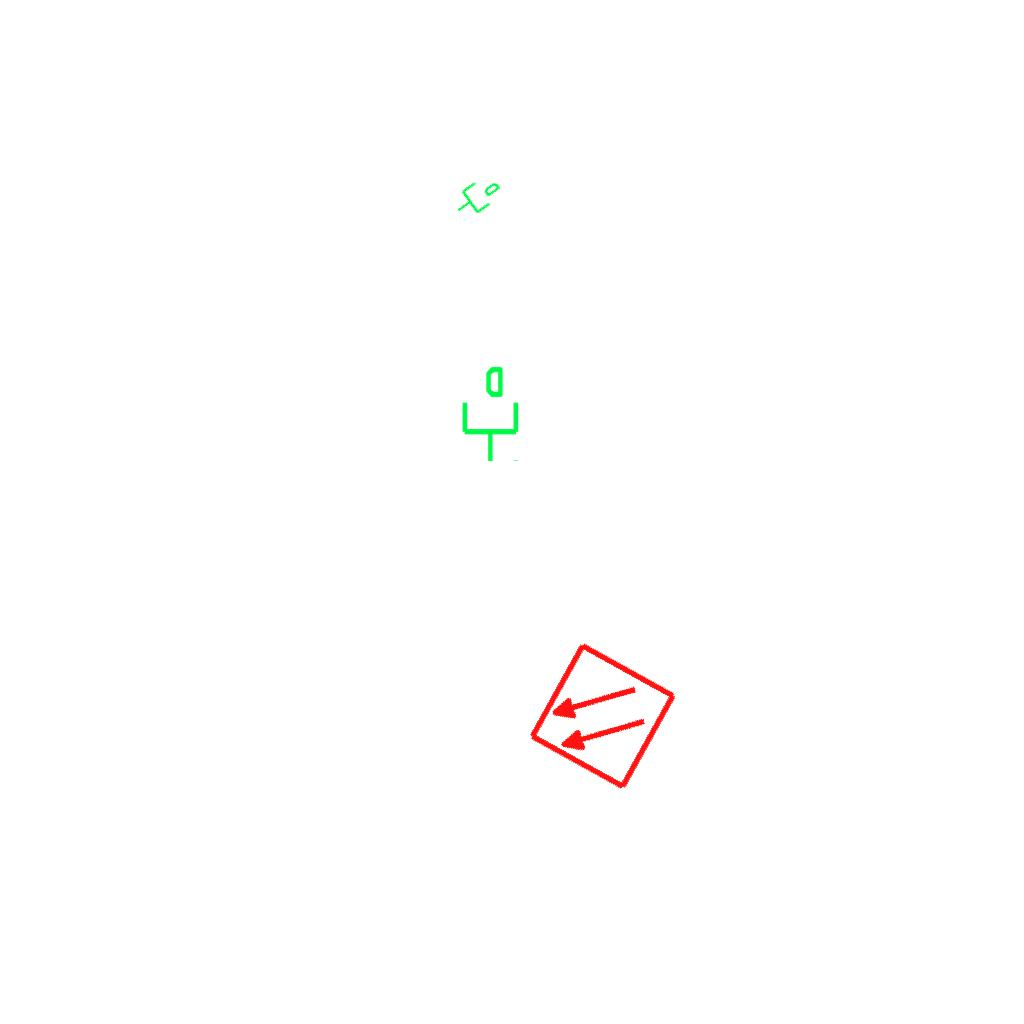Datenanschluss_einfach: (454, 364, 523, 464), (446, 167, 508, 225)
RMO_Rauchmelder_optischer: (525, 639, 680, 794)
